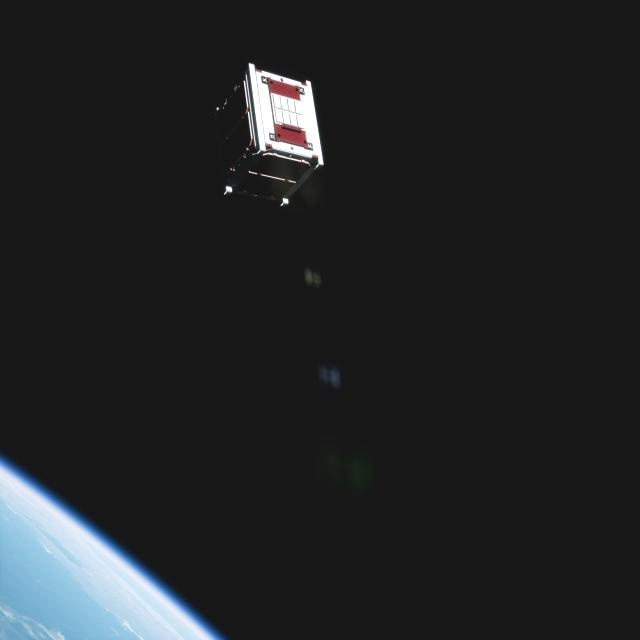satellite: (186, 51, 329, 217)
